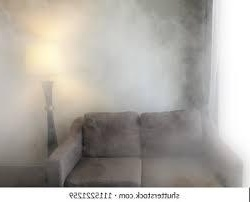smoke: (151, 0, 250, 171)
